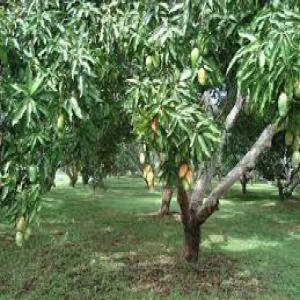Tree: (63, 5, 290, 263)
